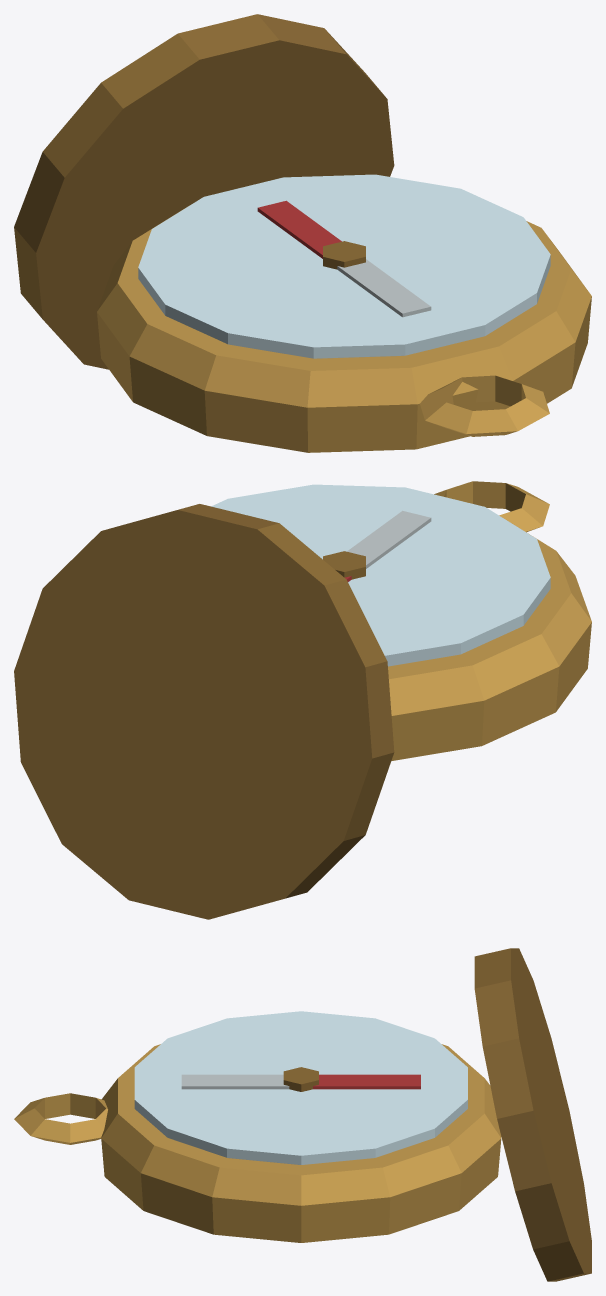
File: quest_compass.glb
The picture shows the model from 3 angles, top to bottom: view 1: azimuth 30°, elevation 25°; view 2: azimuth 150°, elevation 25°; view 3: azimuth 270°, elevation 25°; orthographic projection. The views are drawn at different scales.
Visible parts, largest first — view 1: quest_compass; view 2: quest_compass; view 3: quest_compass.
Part boxes in pixels (bbox=[...]): quest_compass: bbox=[14, 14, 591, 452]; quest_compass: bbox=[14, 481, 591, 919]; quest_compass: bbox=[14, 948, 591, 1281].
Bounding box in the file's own units: 0.24 × 0.1945 × 0.338.
